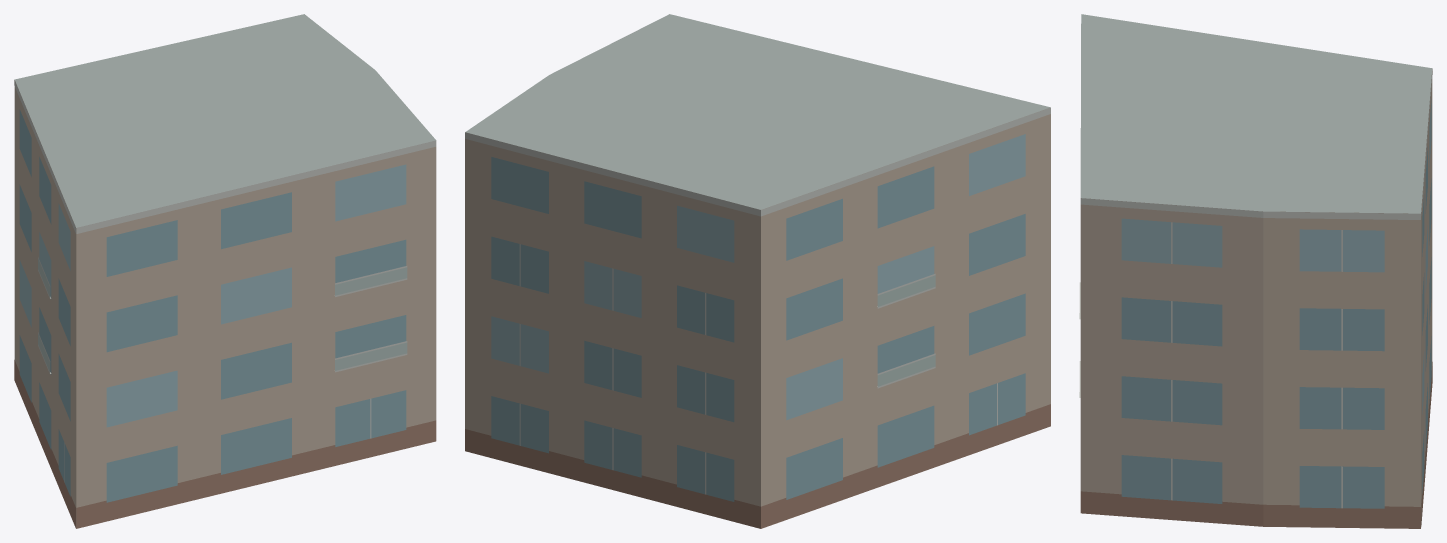
The model's file is survey-upis-32993584.glb.
3 views of the same model, side by side, from view 1: azimuth 30°, elevation 25°; view 2: azimuth 150°, elevation 25°; view 3: azimuth 270°, elevation 25° (orthographic). The views are drawn at different scales.
Visible parts, largest first — view 1: survey-upis-32993584.tmp; view 2: survey-upis-32993584.tmp; view 3: survey-upis-32993584.tmp.
Part boxes in pixels (box(x1,y1,x2,y2)): survey-upis-32993584.tmp: box(14, 14, 436, 528); survey-upis-32993584.tmp: box(465, 14, 1050, 528); survey-upis-32993584.tmp: box(1079, 14, 1432, 528).
Bounding box in the file's own units: 16.06 × 11.82 × 12.
